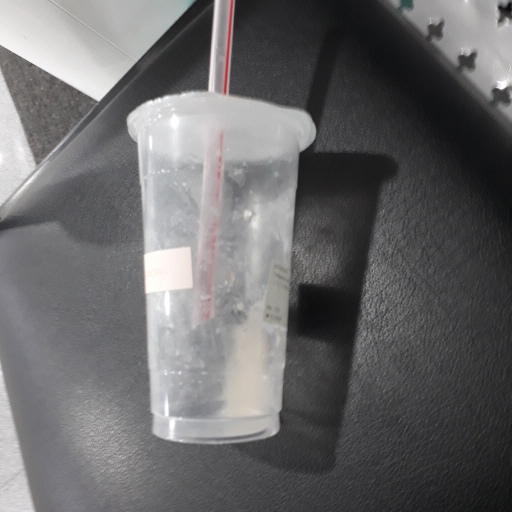Plastic_2: (126, 2, 319, 447)
